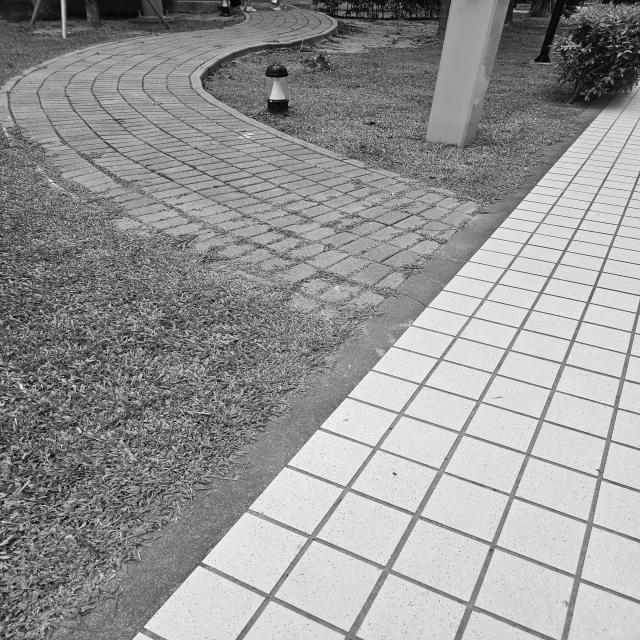Road-Object: (51, 93, 640, 640), (0, 5, 476, 309)
